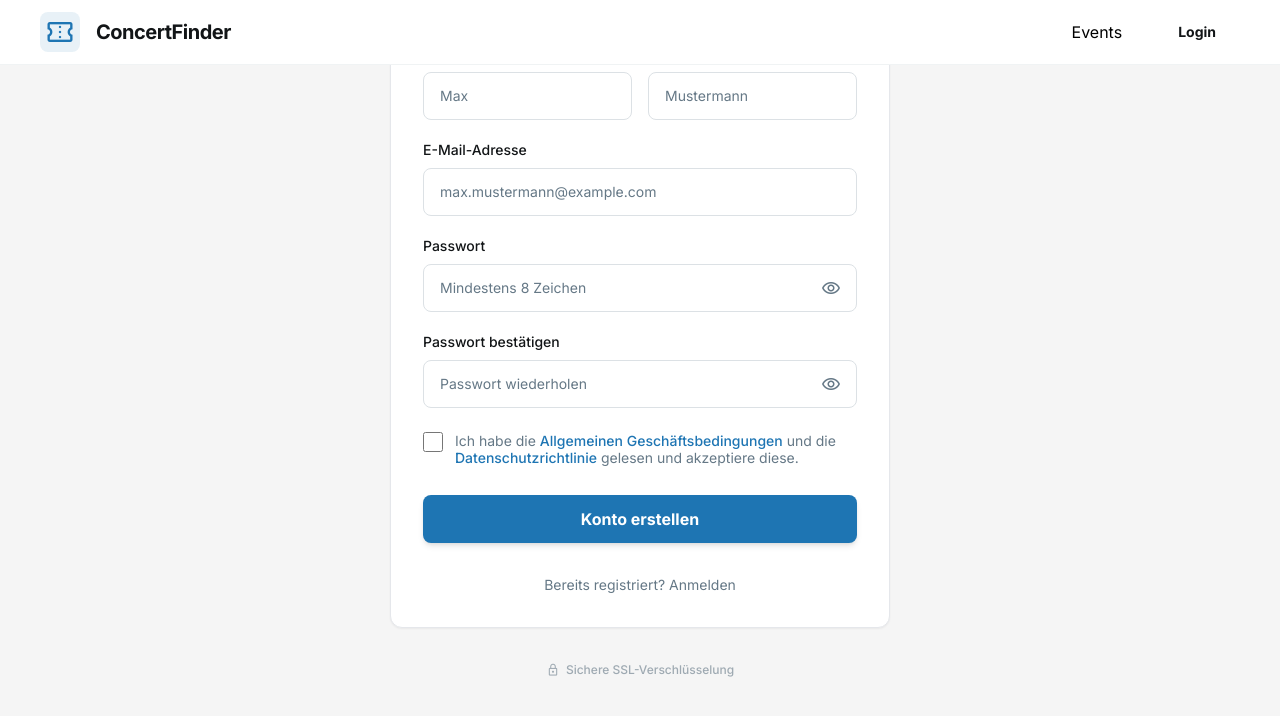
Test case: Register Flow Integration Test › should show validation errors for invalid input
(page scrolled)
# Submit without filling form
Click the button "Konto erstellen". click: (640, 518)
box: 423,494 -> 857,542
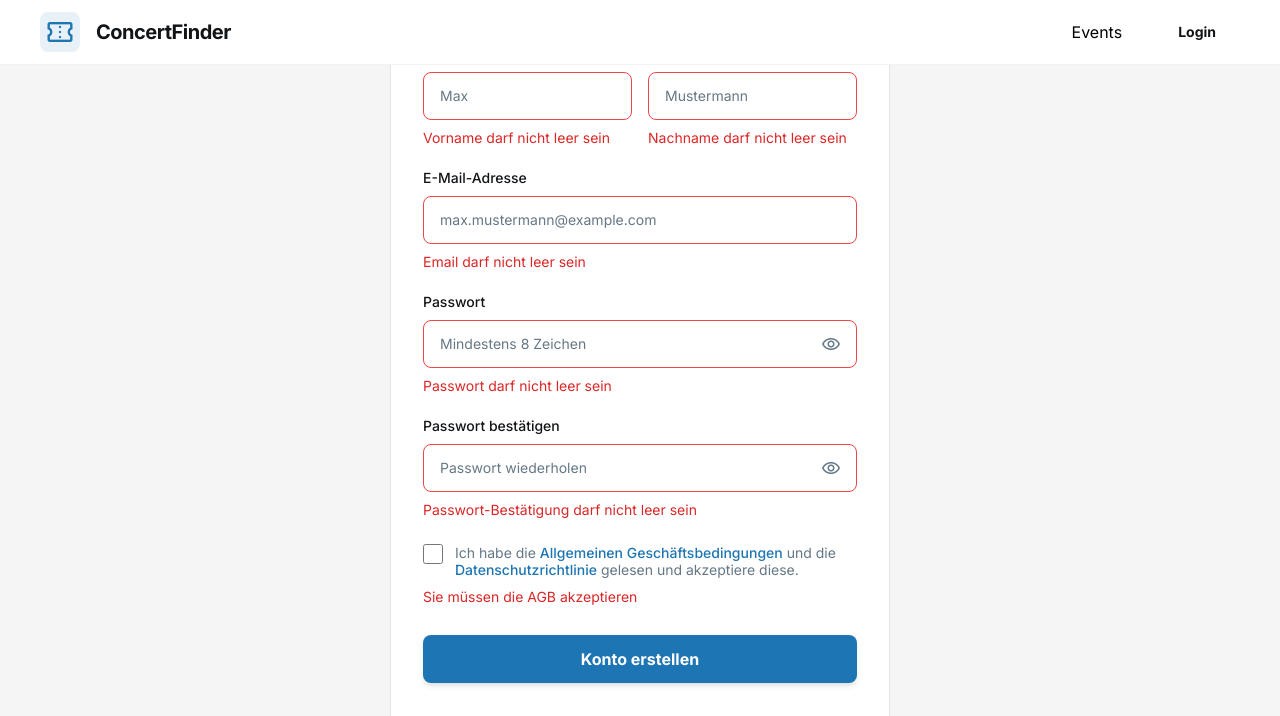
Expected: the text "Vorname darf nicht leer sein" is shown, 423,128 -> 632,148
Expected: the text "Nachname darf nicht leer sein" is shown, 648,128 -> 857,148
Expected: the text "Email darf nicht leer sein" is shown, 423,252 -> 586,270
